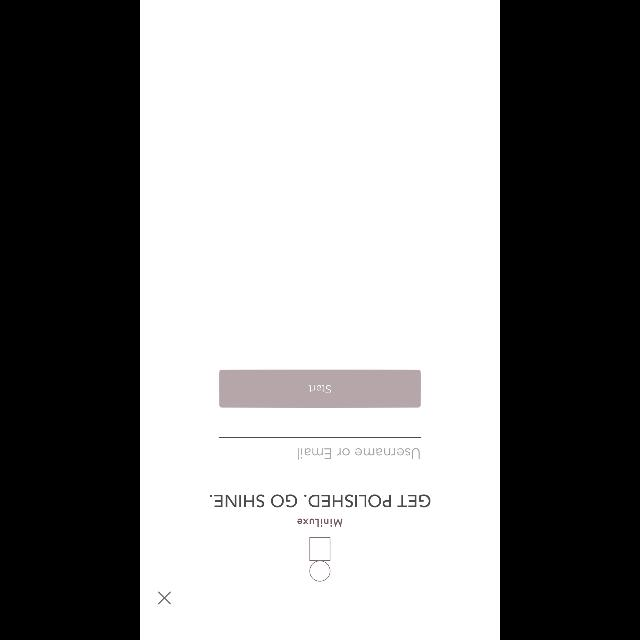icon: (157, 592, 170, 604)
image: (310, 537, 330, 581)
input: (219, 436, 421, 459)
text: (210, 494, 430, 508), (297, 448, 419, 460), (298, 518, 342, 528)
textbutton: (220, 370, 420, 408)
